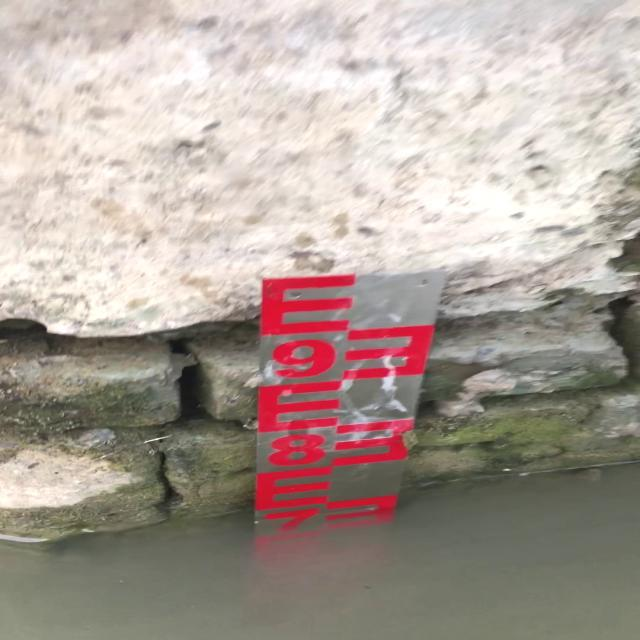ruler: (231, 256, 466, 537)
value: (255, 331, 348, 386), (253, 428, 337, 472)
